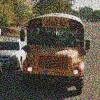buses: (18, 12, 89, 87)
